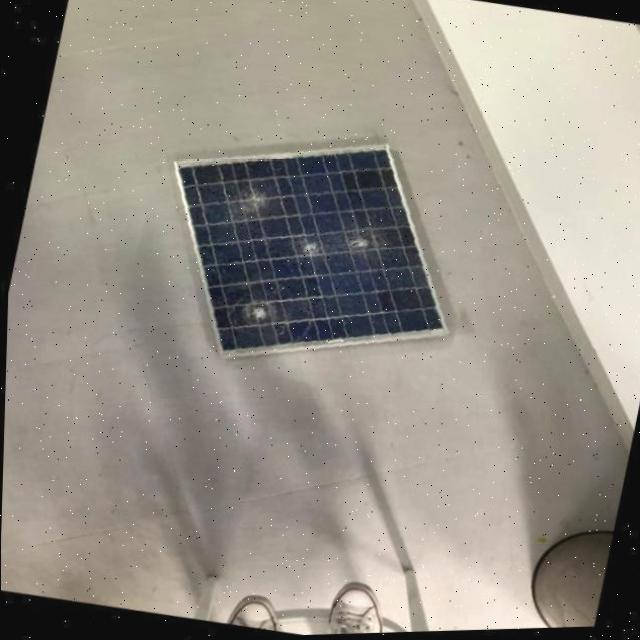Anomaly Solar Panel: (173, 146, 447, 363)
Structural Damage: (292, 227, 390, 277), (219, 176, 276, 230), (226, 297, 292, 338)
